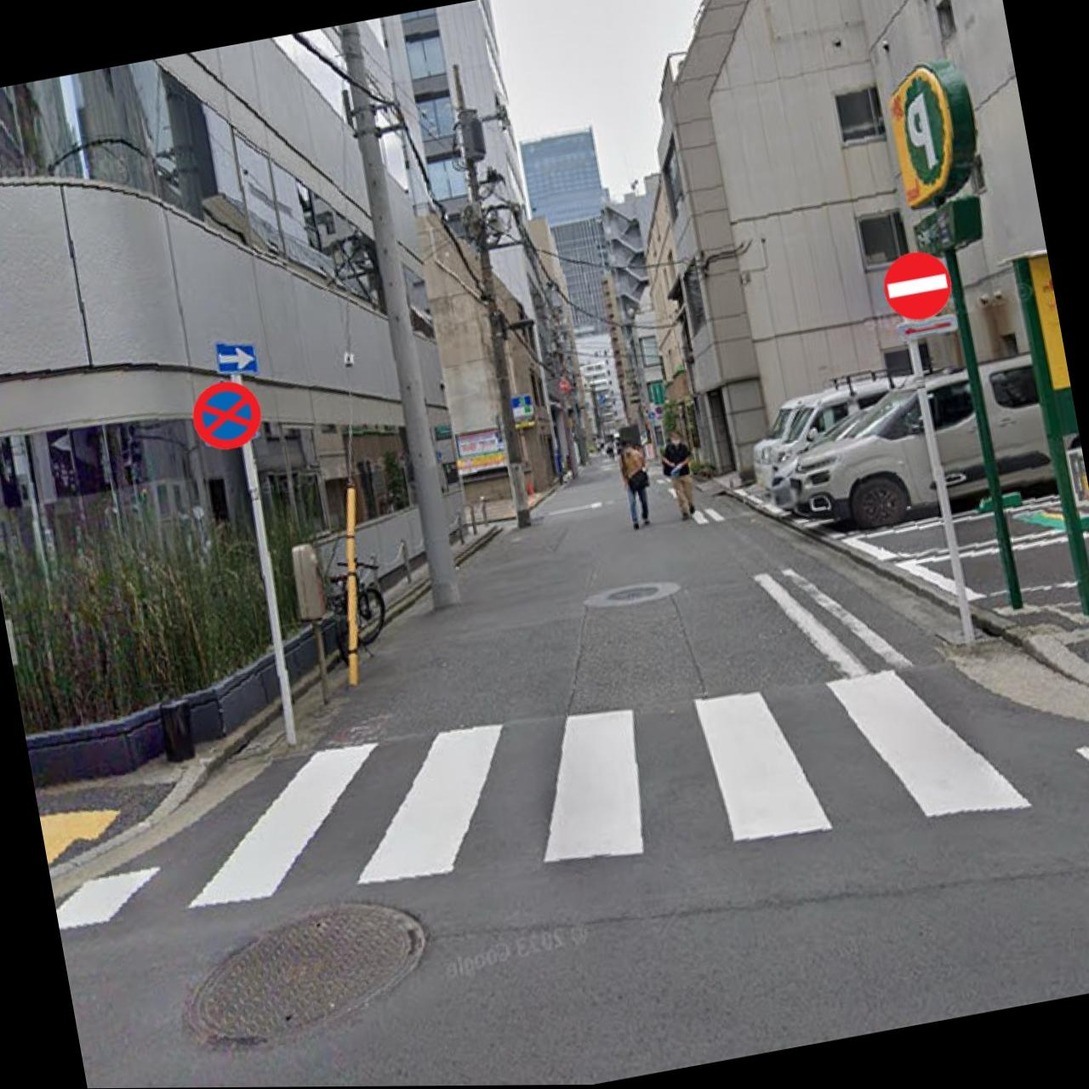barrier: (879, 246, 956, 327)
stop_sign: (188, 374, 267, 456)
